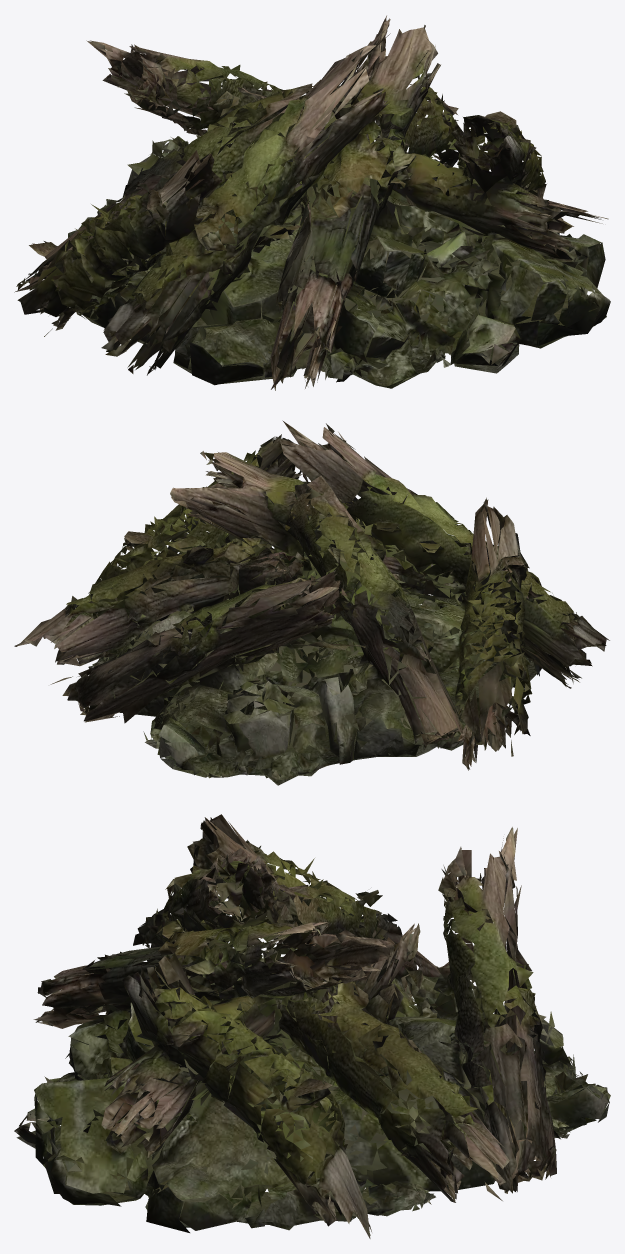
The model's file is Mossy_Timber_Ruins_town.glb.
The picture shows the model from 3 angles, top to bottom: view 1: azimuth 30°, elevation 25°; view 2: azimuth 150°, elevation 25°; view 3: azimuth 270°, elevation 25°; orthographic projection. The views are drawn at different scales.
Parts seen in each view (by area): view 1: Mossy_Timber_Ruins; view 2: Mossy_Timber_Ruins; view 3: Mossy_Timber_Ruins.
Boxes of the visible parts, box(x1,y1,x2,y2) form: Mossy_Timber_Ruins: box(14, 15, 610, 390); Mossy_Timber_Ruins: box(14, 420, 609, 785); Mossy_Timber_Ruins: box(14, 814, 610, 1238).
Size of the model in its own units: 1.89 by 0.9386 by 1.78.
Materials: 1 (1 with a texture image).
